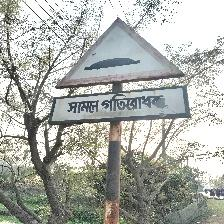Speed-breaker: (52, 16, 191, 126)
